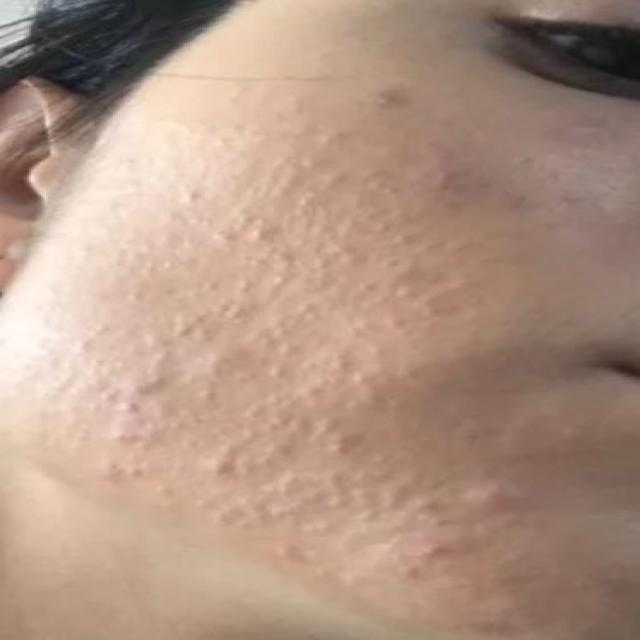fungal: (80, 324, 550, 591), (175, 91, 503, 326)
